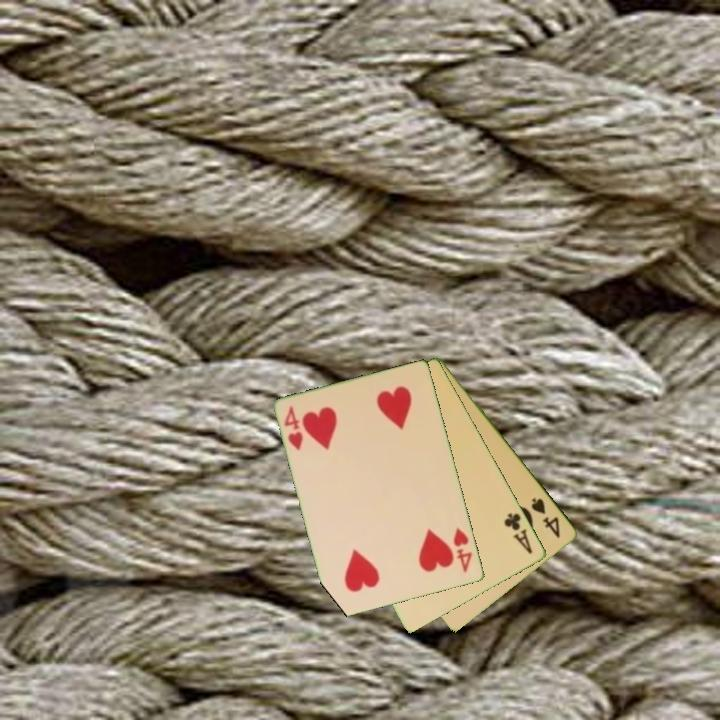4h: (450, 524, 475, 576), (281, 403, 306, 453)
4s: (528, 494, 564, 541)
Ac: (501, 509, 536, 557)
